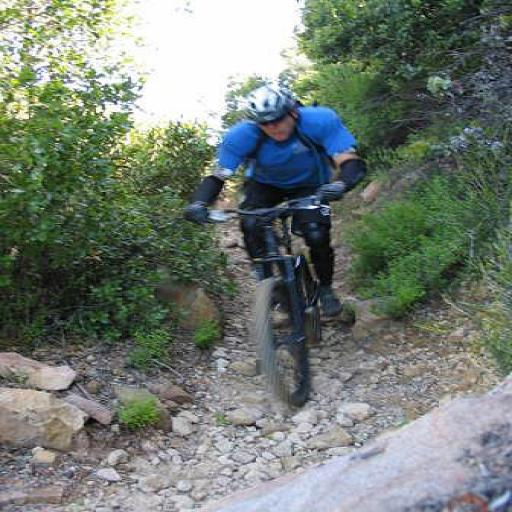bicycle: (202, 184, 340, 409)
person: (182, 87, 368, 323)
